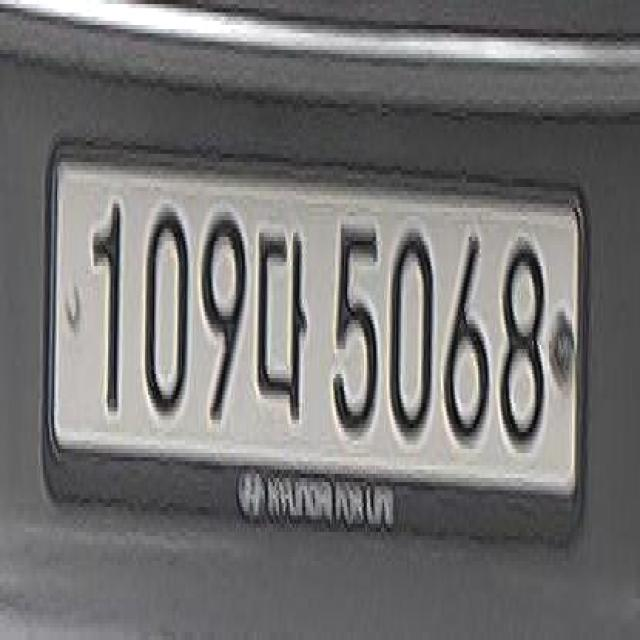illegal_plate: (41, 132, 592, 575)
